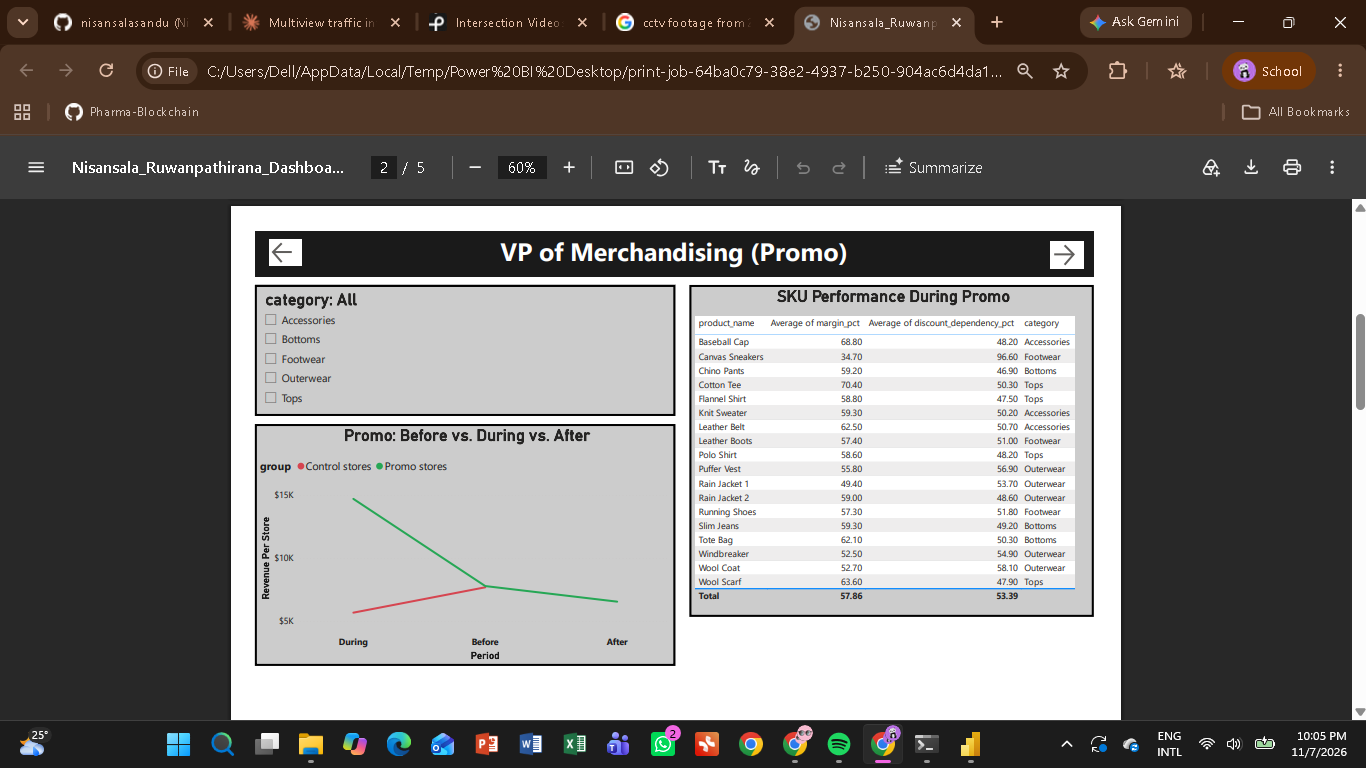

Layout of this report page (visuals, bound fields, positions):
{"tool":"powerbi","page":{"name":"VP of Merchandising (Promo)","canvas":[1280,720],"ordinal":1},"visuals":[{"type":"lineChart","title":"Promo: Before vs. During vs. After","fields":{"Category":["promo_summary.period"],"Series":["promo_summary.group"],"Y":["Sum(promo_summary.revenue_per_store)"]},"box":[13,301.7,626.2,360.4],"z":0},{"type":"tableEx","title":"SKU Performance During Promo","fields":{"Values":["sku_summary.product_name","Avg(sku_summary.margin_pct)","Avg(sku_summary.discount_dependency_pct)","sku_summary.category"]},"box":[660.4,94.6,601.7,494.1],"z":1000},{"type":"slicer","fields":{"Values":["sku_summary.category"]},"box":[13,94.6,626.2,195.7],"z":2000},{"type":"textbox","box":[13,14.7,1249,68.5],"z":3000},{"type":"actionButton","box":[1197.4,30.2,49.7,40.8],"z":4000},{"type":"actionButton","box":[33.7,26.6,49.7,40.8],"z":5000}]}

Visuals, with their boxes on the page's 1280x720 design canvas (x1, y1, x2, y2). These are canvas units, not pixel positions in the 1366x768 screenshot, which may show the page scaled, cropped or inside an application window:
"Promo: Before vs. During vs. After" lineChart: <region>13, 302, 639, 662</region>
"SKU Performance During Promo" tableEx: <region>660, 95, 1262, 589</region>
slicer - sku_summary.category: <region>13, 95, 639, 290</region>
textbox: <region>13, 15, 1262, 83</region>
actionButton: <region>1197, 30, 1247, 71</region>
actionButton: <region>34, 27, 83, 67</region>
